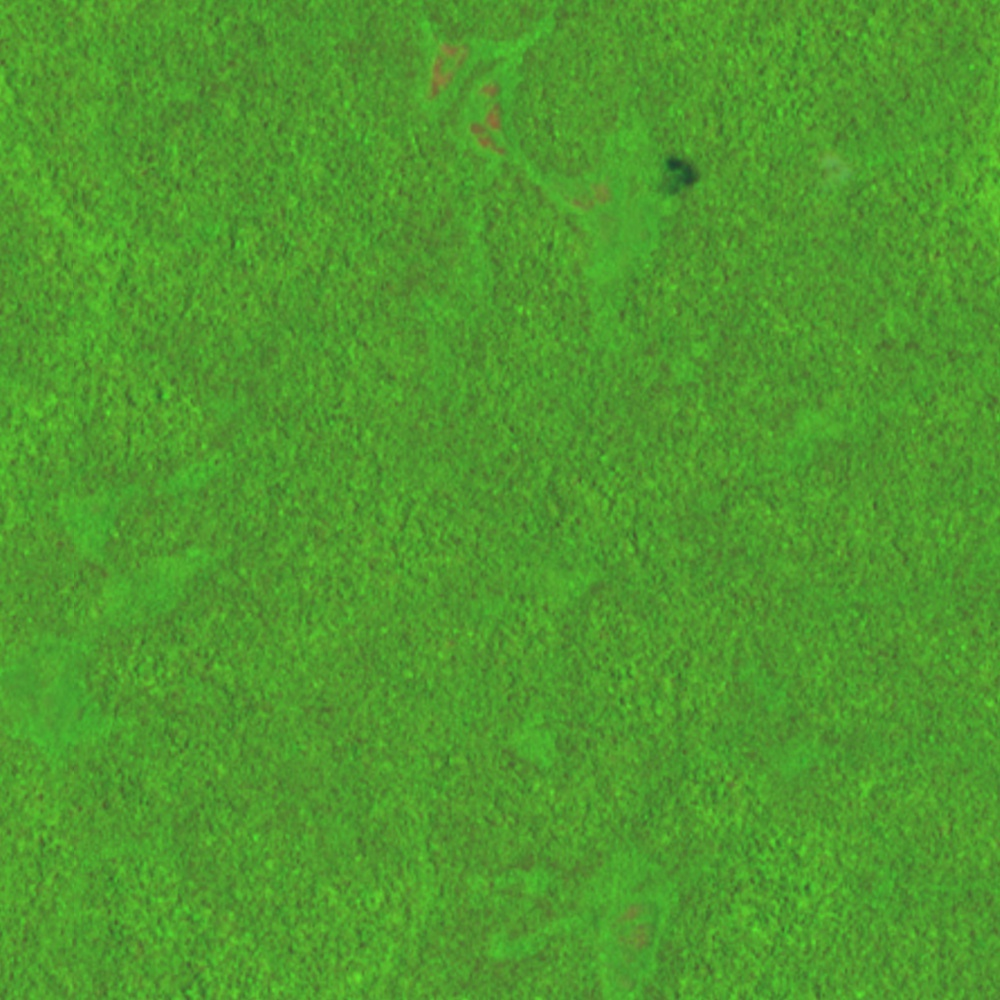legal: (414, 12, 621, 216), (587, 850, 675, 1000)
